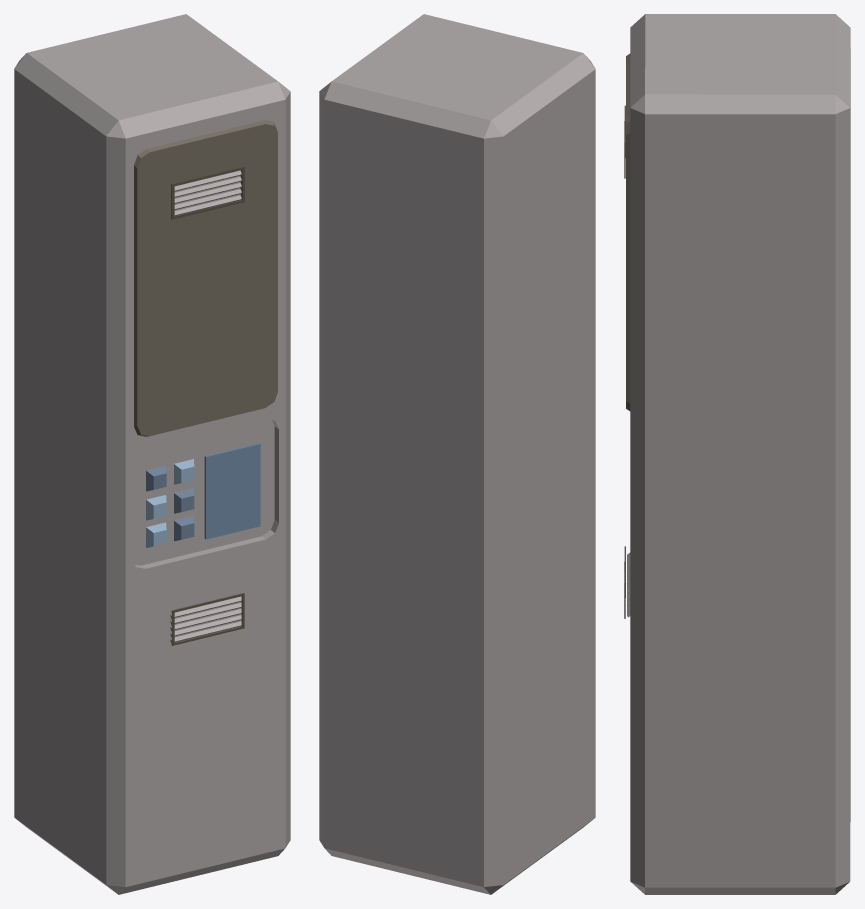
Rendered from Locker_01 1.fbx.
3 renders of one model, left to right at view 1: azimuth 30°, elevation 25°; view 2: azimuth 150°, elevation 25°; view 3: azimuth 270°, elevation 25°, orthographic. The views are drawn at different scales.
Visible parts, largest first — view 1: Locker_01; view 2: Locker_01; view 3: Locker_01.
Part boxes in pixels (x1,y1,x2,y2): Locker_01: (14, 14, 290, 894); Locker_01: (319, 14, 595, 894); Locker_01: (624, 14, 850, 894).
Bounding box in the file's own units: 62.35 × 250 × 64.
1 material, 1 textured.
